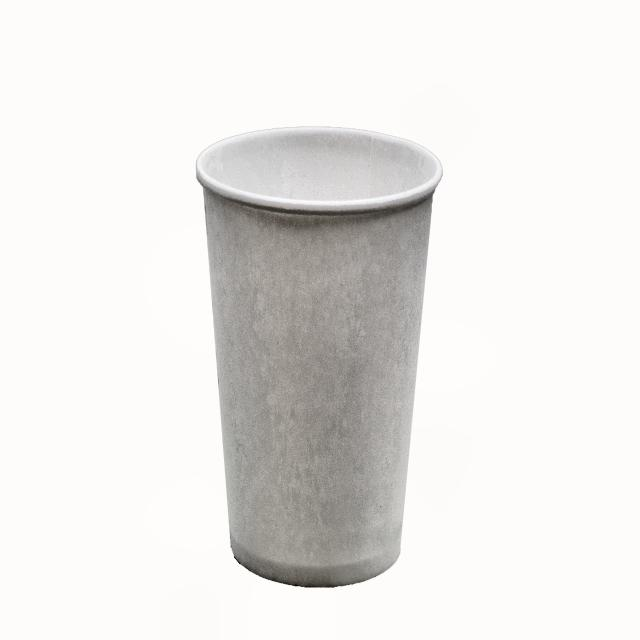Cup: (193, 124, 451, 595)
